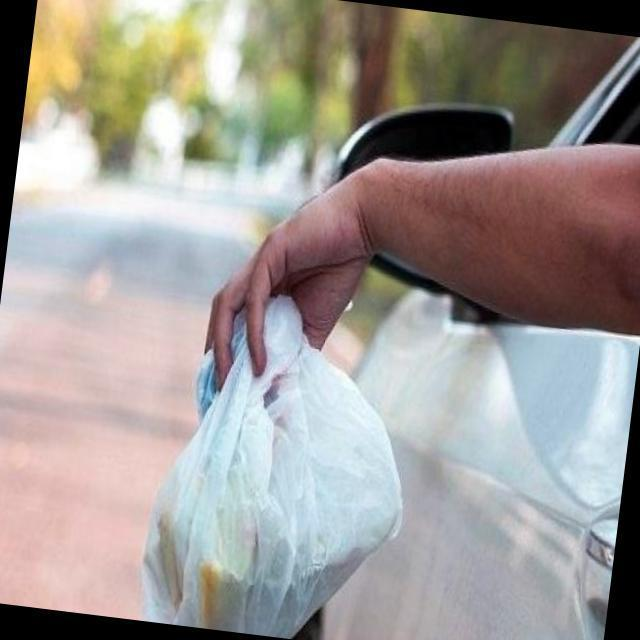garbage: (131, 273, 430, 640)
